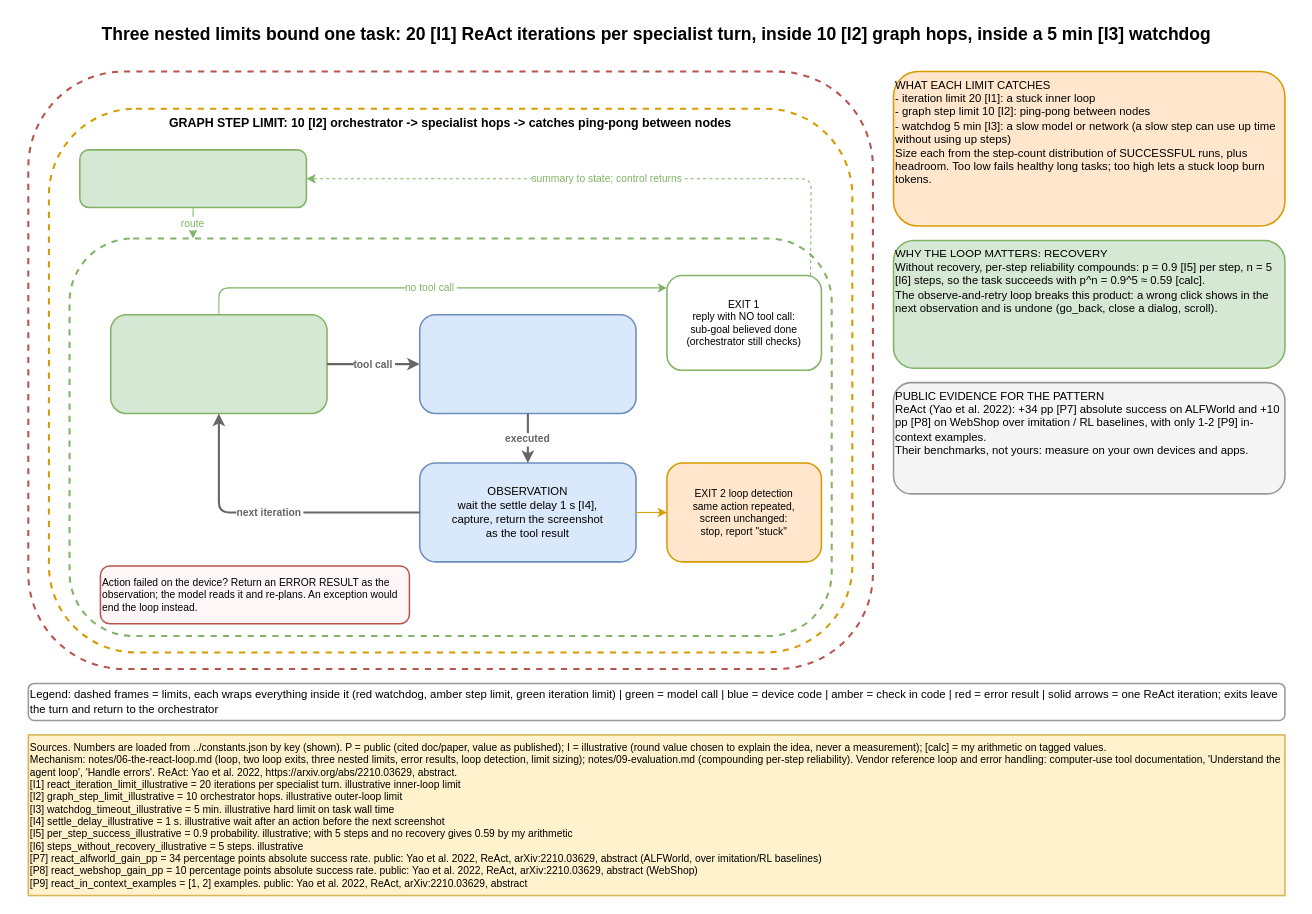
This 1312x914 diagram has some shape labels left out. Here are the shapes that lost their labels. From the top down, the box of each, then its label:
(79, 149, 307, 208): ORCHESTRATOR routes to a specialist (diagram 02)
(109, 313, 327, 414): THOUGHT the model reasons about the latest screenshot + history
(27, 70, 873, 670): WATCHDOG: whole task, 5 min [I3] wall clock -> catches a slow model or network
(418, 313, 636, 414): ACTION a tool call, e.g. left_click; device code executes it
(68, 237, 832, 637): ONE SPECIALIST TURN: ReAct iteration limit 20 [I1] -> catches a stuck inner loop
